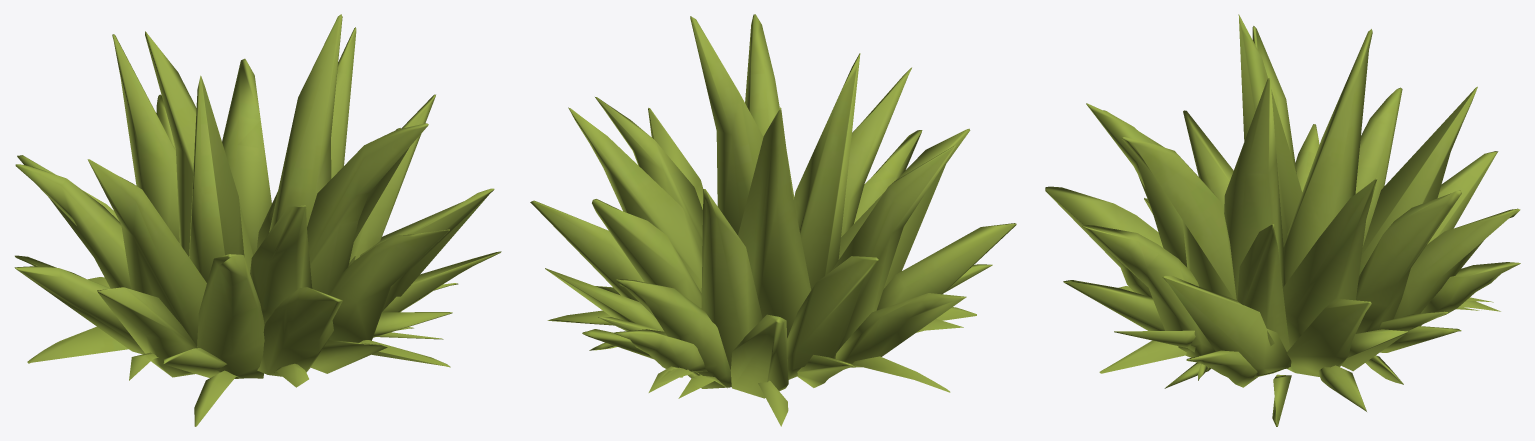
File: tufo_grama.glb
The picture shows the model from 3 angles, left to right: view 1: azimuth 30°, elevation 25°; view 2: azimuth 150°, elevation 25°; view 3: azimuth 270°, elevation 25°; orthographic projection. The views are drawn at different scales.
Visible parts, largest first — view 1: tripo_node_4f554df1-56cf-45a6-a1a8-551fc2344098; view 2: tripo_node_4f554df1-56cf-45a6-a1a8-551fc2344098; view 3: tripo_node_4f554df1-56cf-45a6-a1a8-551fc2344098.
Boxes of the visible parts, x1=… form: tripo_node_4f554df1-56cf-45a6-a1a8-551fc2344098: x1=14, y1=14, x2=501, y2=426; tripo_node_4f554df1-56cf-45a6-a1a8-551fc2344098: x1=530, y1=14, x2=1016, y2=426; tripo_node_4f554df1-56cf-45a6-a1a8-551fc2344098: x1=1045, y1=14, x2=1520, y2=426.
Bounding box in the file's own units: 0.998 × 0.709 × 0.998.
Materials: 1 (1 with a texture image).
